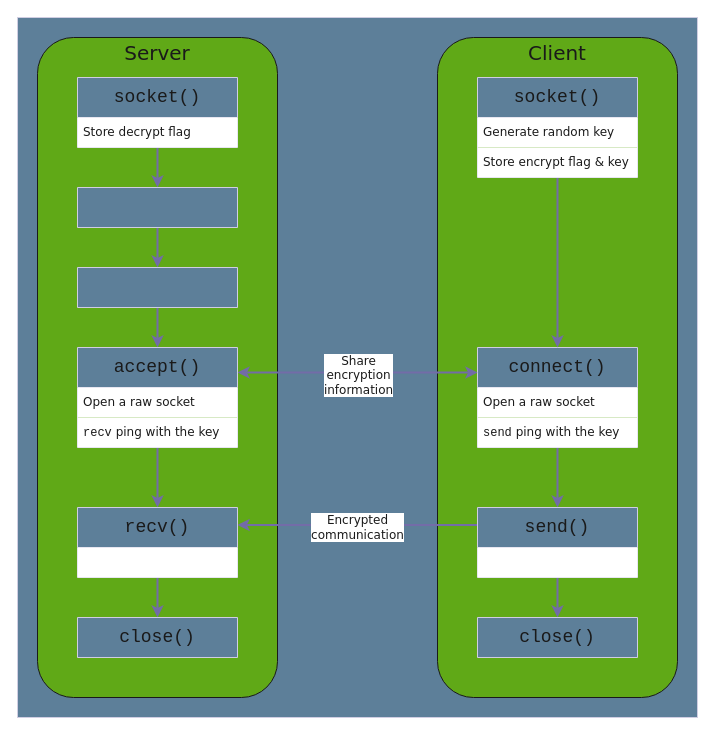
This 715x735 diagram has some shape labels left out. The shapes that lost their labels are listed below. From the top down, each one's centre as x and y in pixels, then its label:
pixel 157 207: bind()
pixel 157 287: listen()
pixel 157 562: Decrypt message
pixel 557 562: Encrypt message
